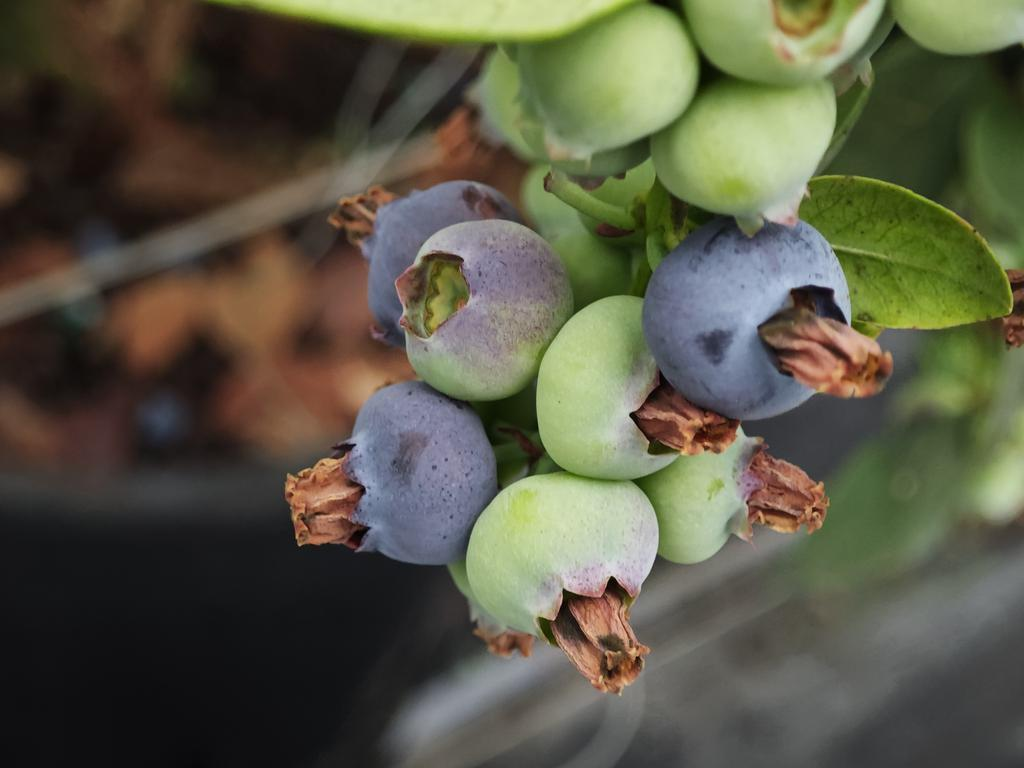RipeBlueBerry: (639, 213, 861, 424), (327, 379, 499, 570)
Semi-RipeBlueBerry: (392, 215, 574, 403)
UnripeBlueBerry: (462, 472, 663, 662)
